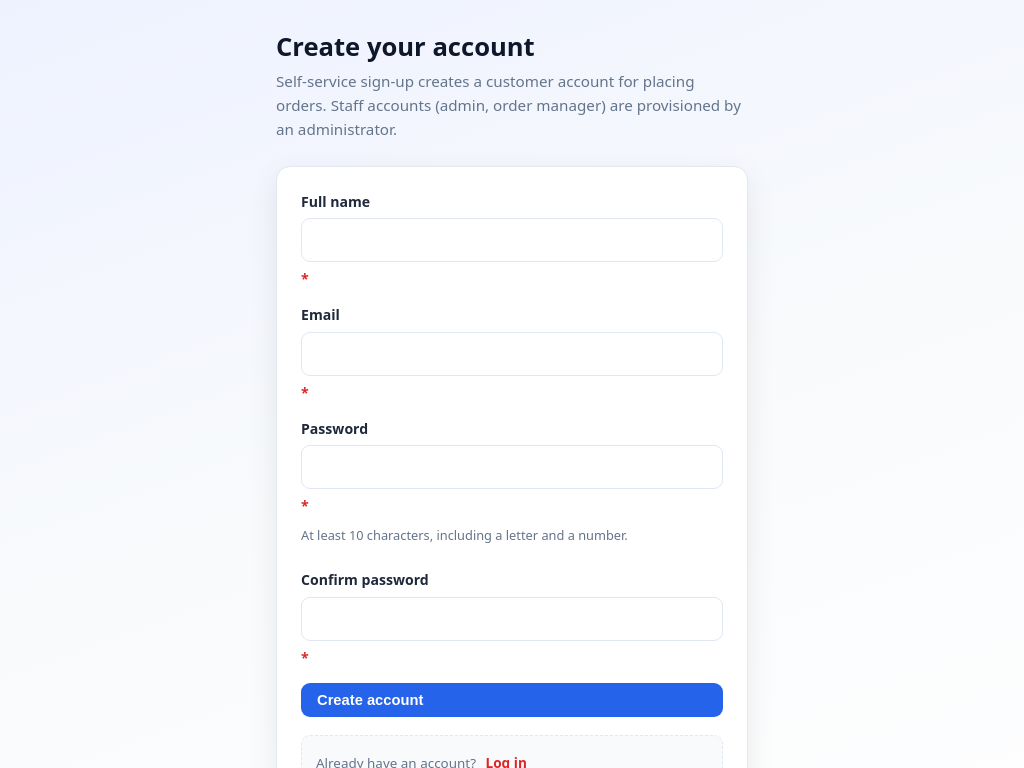
Test: RegisterPage — customer sign-up › surfaces the server rejection and stays on the form
Step 1. Type "Celes Retail" into the field named "name" → point(512, 240), box x1=301 y1=218 x2=723 y2=262
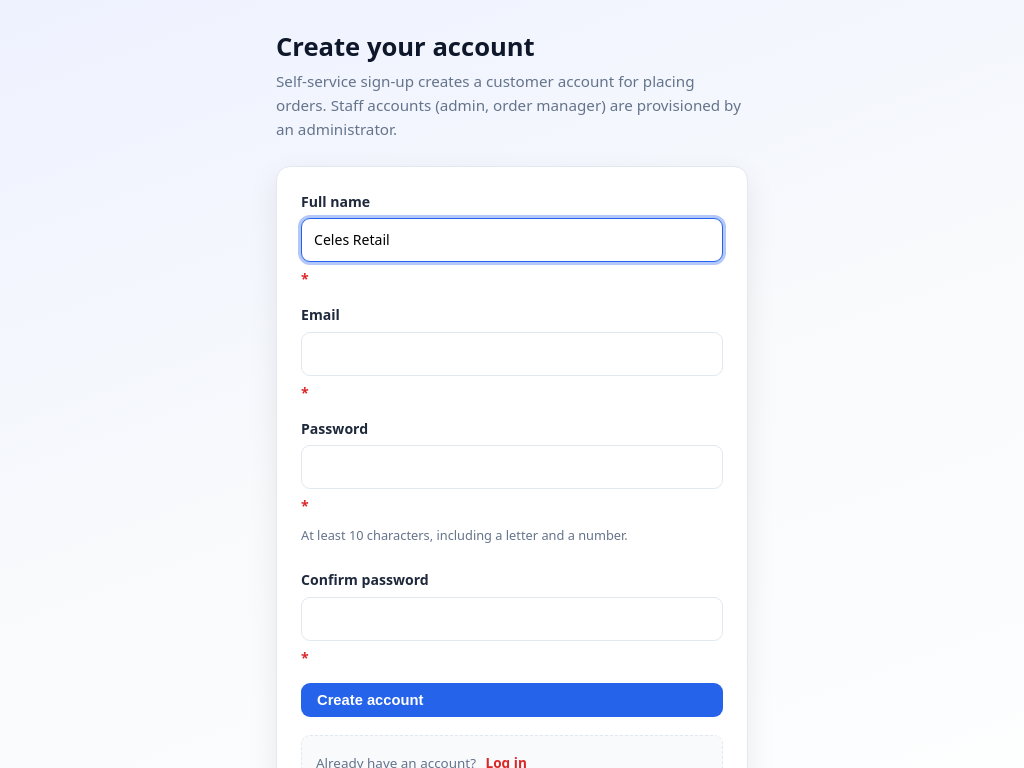
Step 2. Type "taken@b2boms.test" into the field named "email" → point(512, 354), box x1=301 y1=332 x2=723 y2=376
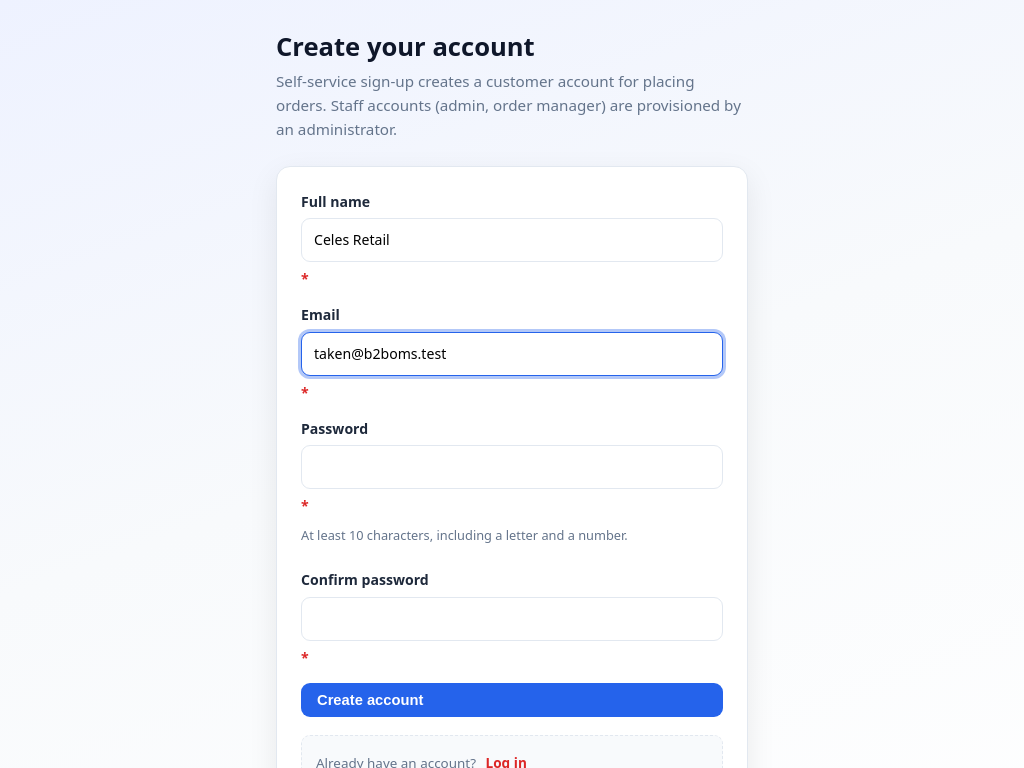
Step 3. Type "Passw0rd123" into the password field named "password" → point(512, 467), box x1=301 y1=445 x2=723 y2=489
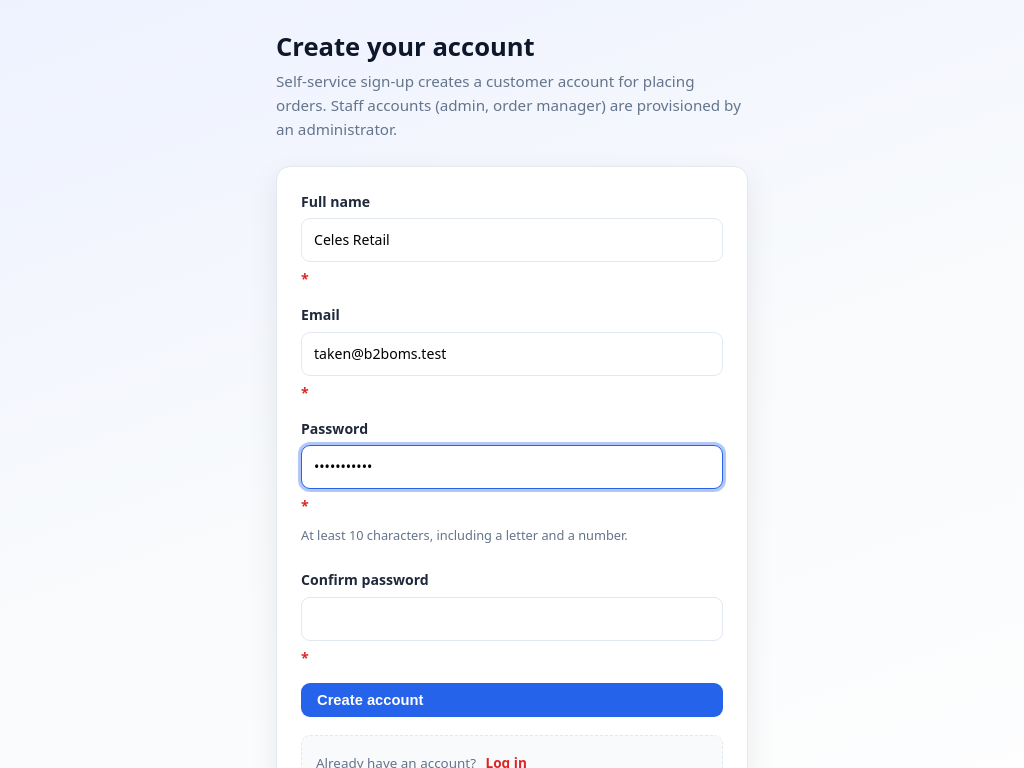
Step 4. Type "Passw0rd123" into the password field named "confirm" → point(512, 619), box x1=301 y1=597 x2=723 y2=641
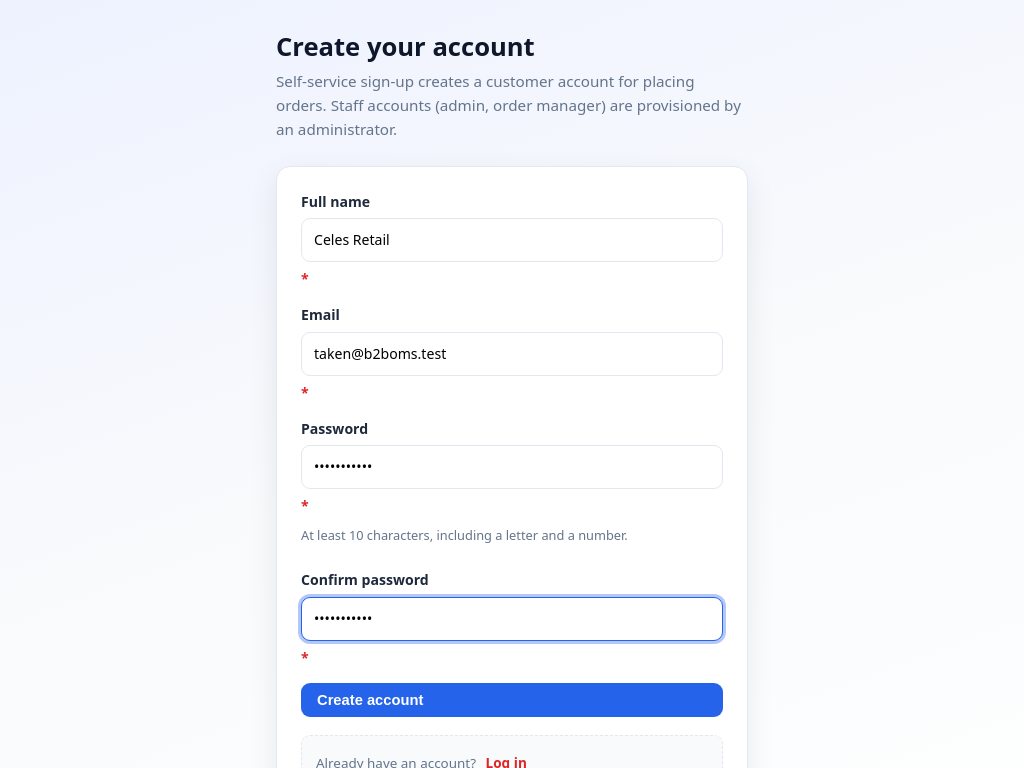
Step 5. Click the button "Create account" → point(370, 700), box x1=301 y1=683 x2=723 y2=717
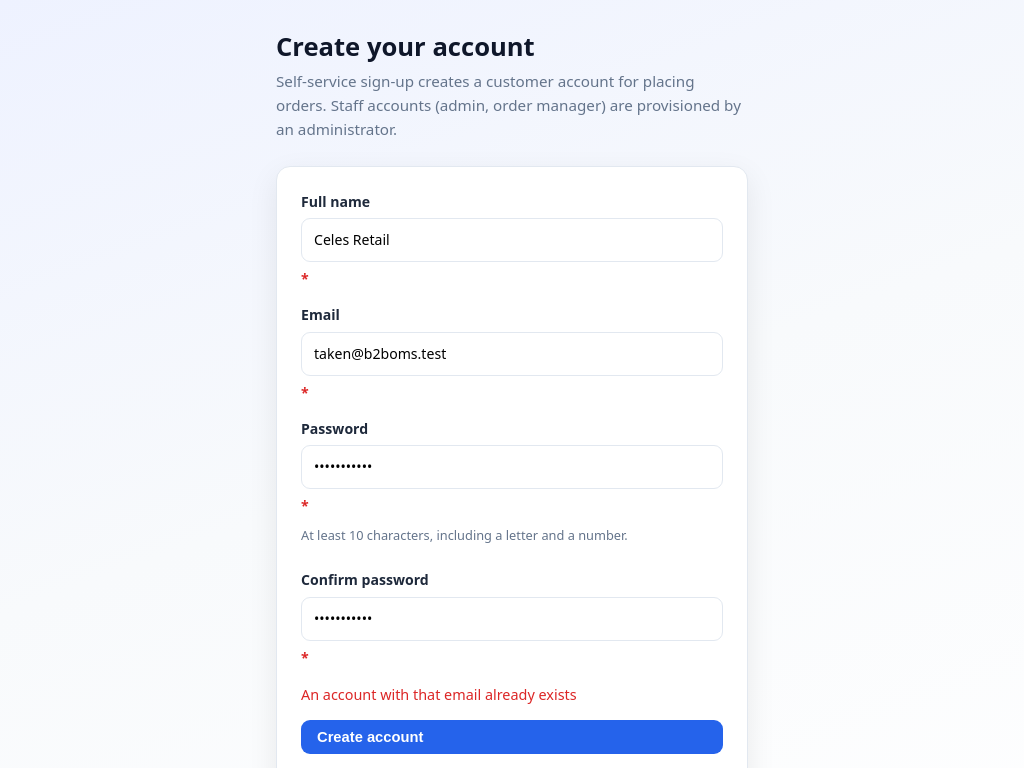
Expected: the form named "registration form" is shown, x1=301 y1=191 x2=723 y2=754
Now the text "An account with that email already exists" is shown, box x1=301 y1=685 x2=577 y2=704
